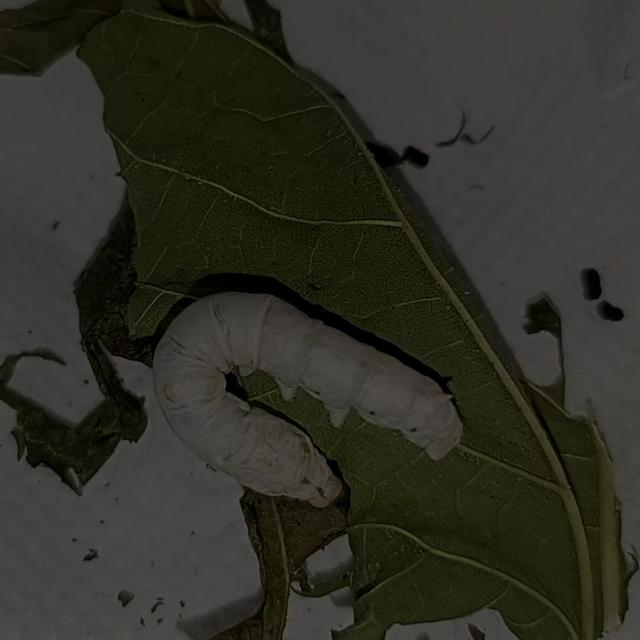Healthy: (138, 258, 486, 545)
